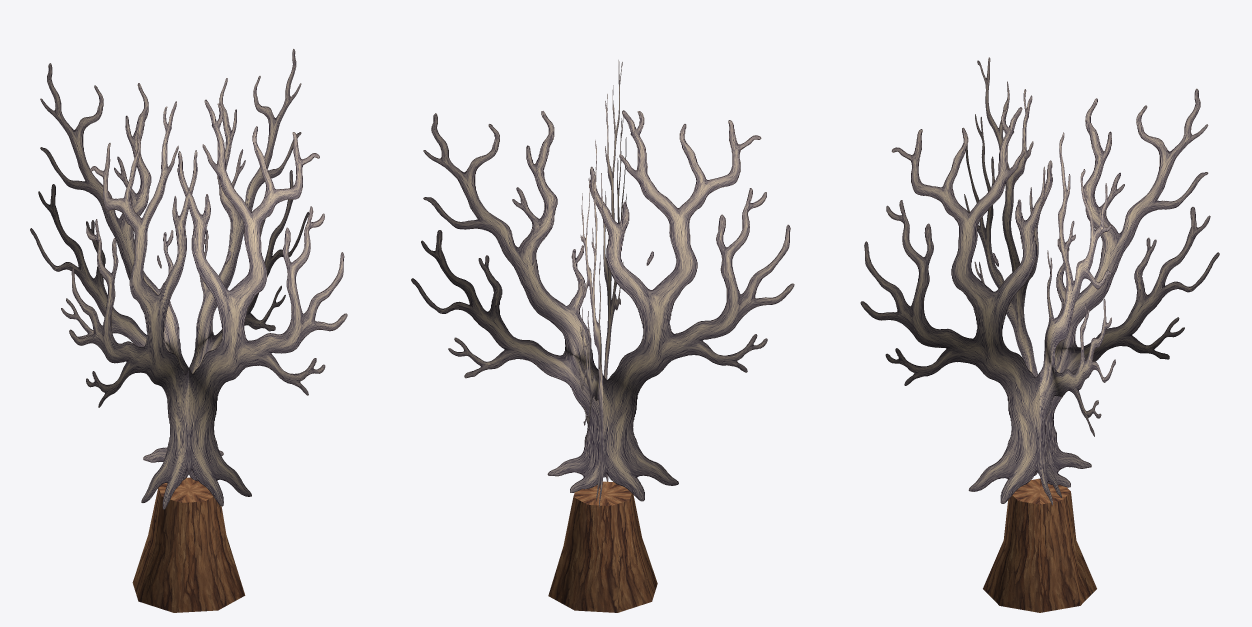
The model's file is tree_dead.gltf.
3 views of the same model, side by side, from view 1: azimuth 30°, elevation 25°; view 2: azimuth 150°, elevation 25°; view 3: azimuth 270°, elevation 25° (orthographic). The views are drawn at different scales.
Visible parts, largest first — view 1: tree_dead; view 2: tree_dead; view 3: tree_dead.
Part boxes in pixels (<box>): tree_dead: <box>30,49,347,612</box>; tree_dead: <box>411,60,794,612</box>; tree_dead: <box>860,57,1219,612</box>.
Bounding box in the file's own units: 3.32 × 4.55 × 3.32.
Materials: 2 (2 with a texture image).
